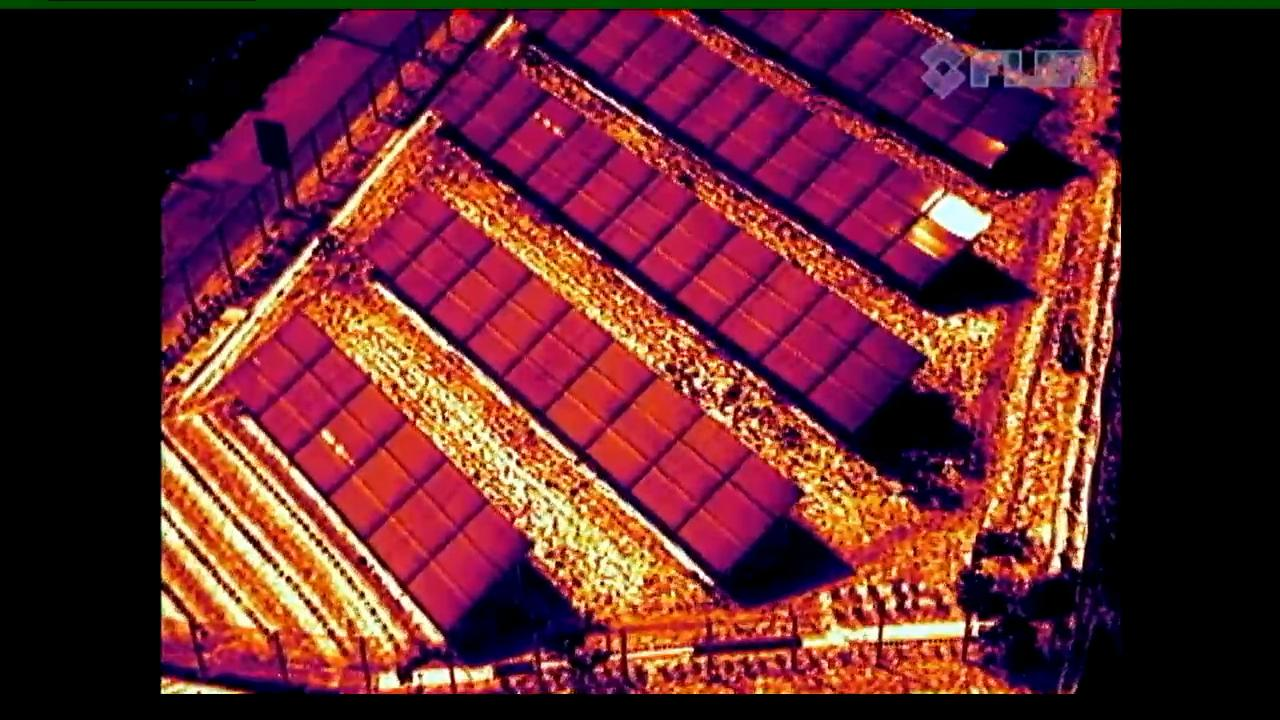hotspot: (285, 381, 406, 482), (481, 93, 587, 175)
